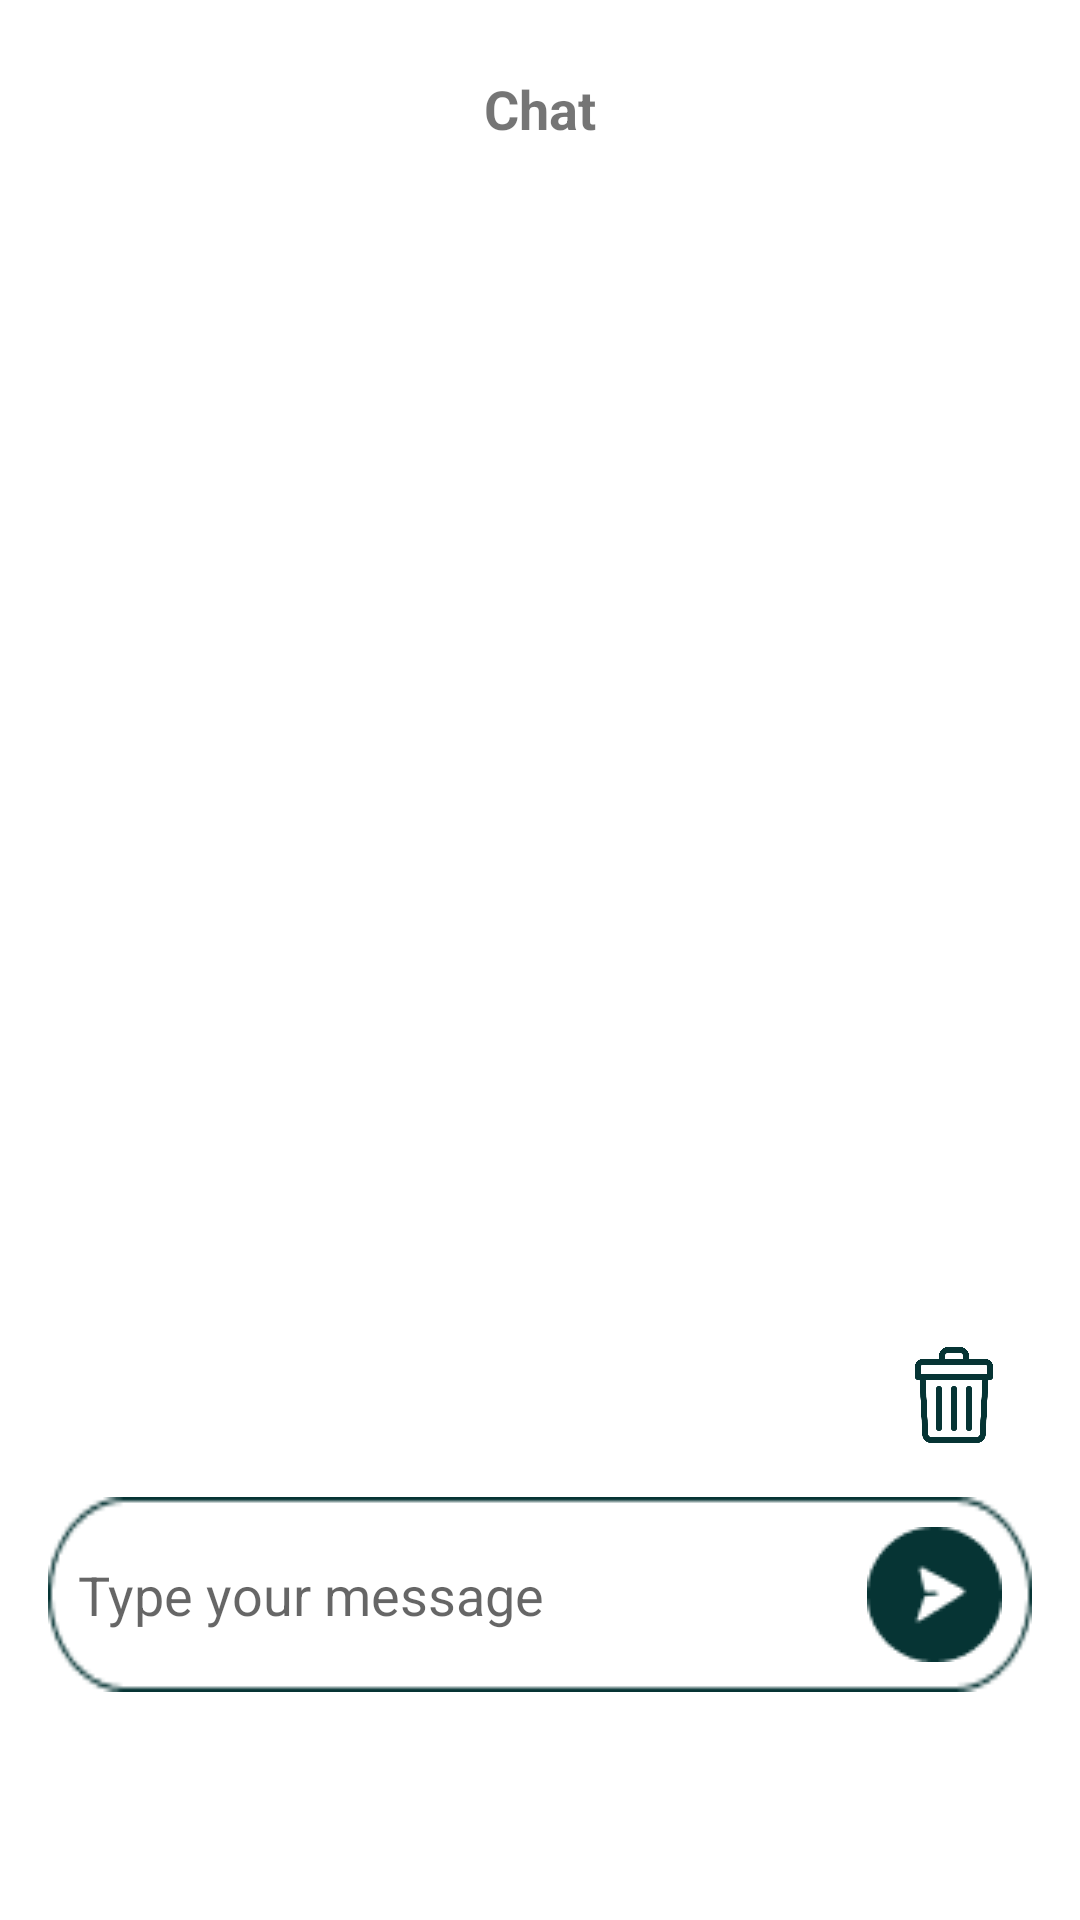

Point at icon controls on the screen. Image size 1080x1920, points as (x,y).
Delete: (954,1395)
Send: (934,1594)
